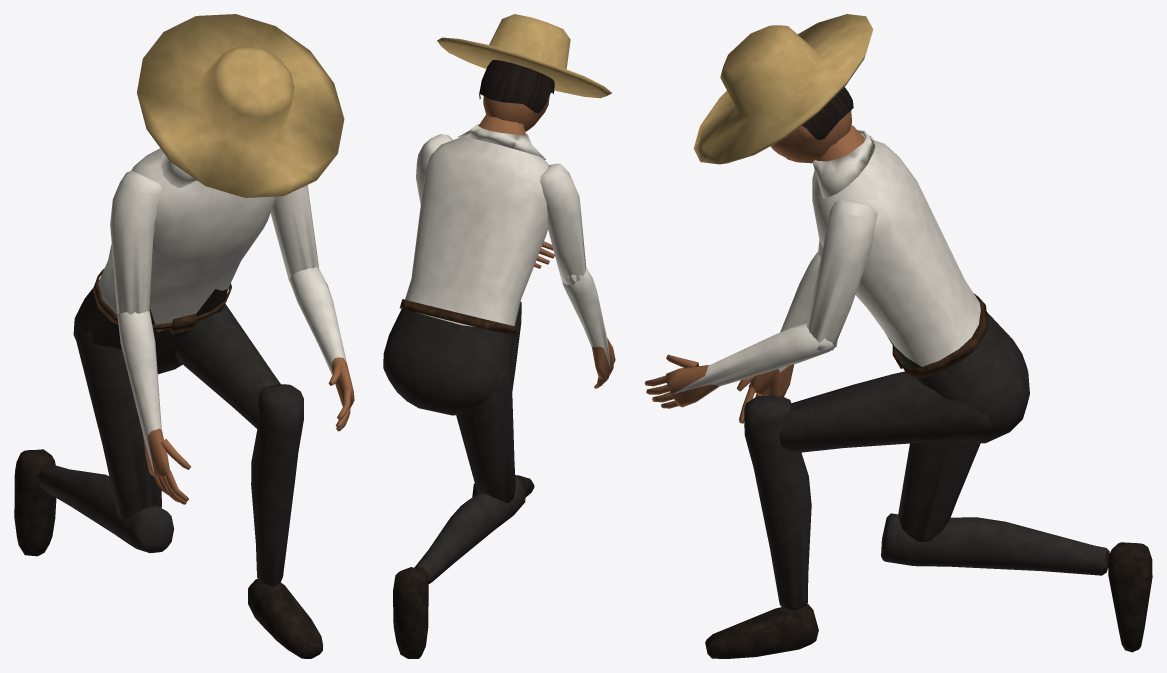
Rendered from persona_hombre_agachado_lod.obj.
3 renders of one model, left to right at view 1: azimuth 30°, elevation 25°; view 2: azimuth 150°, elevation 25°; view 3: azimuth 270°, elevation 25°, orthographic. The views are drawn at different scales.
Visible parts, largest first — view 1: persona_hombre_agachado; view 2: persona_hombre_agachado; view 3: persona_hombre_agachado.
Part boxes in pixels (left/top/right/bottom): persona_hombre_agachado: left=14, top=14, right=354, bottom=658; persona_hombre_agachado: left=383, top=14, right=615, bottom=658; persona_hombre_agachado: left=644, top=14, right=1152, bottom=658.
Bounding box in the file's own units: 0.4796 × 1.45 × 1.05.
13 materials, 13 textured.
